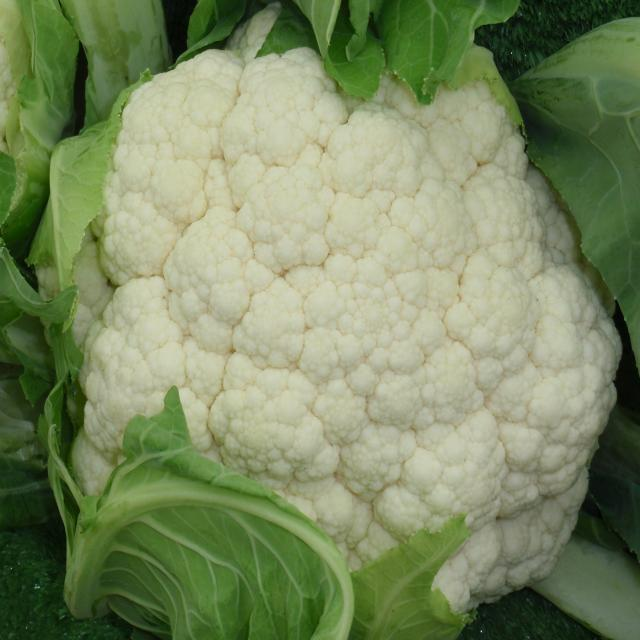Cauliflower head: (45, 37, 632, 603)
